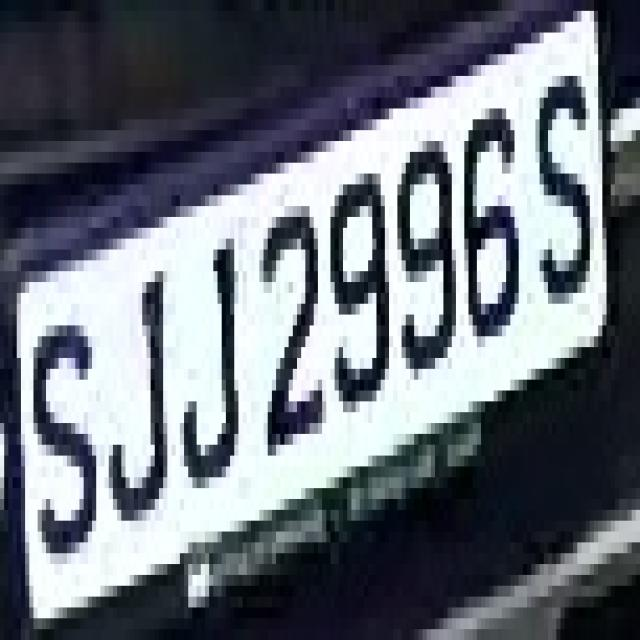2: (260, 163, 326, 466)
6: (448, 86, 527, 380)
9: (322, 141, 393, 466), (393, 120, 460, 402)
J: (100, 195, 172, 542), (176, 184, 247, 532)
S: (29, 271, 109, 597), (514, 33, 594, 347)
